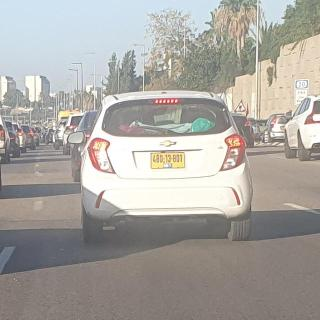LicensePlate: (151, 153, 184, 163)
